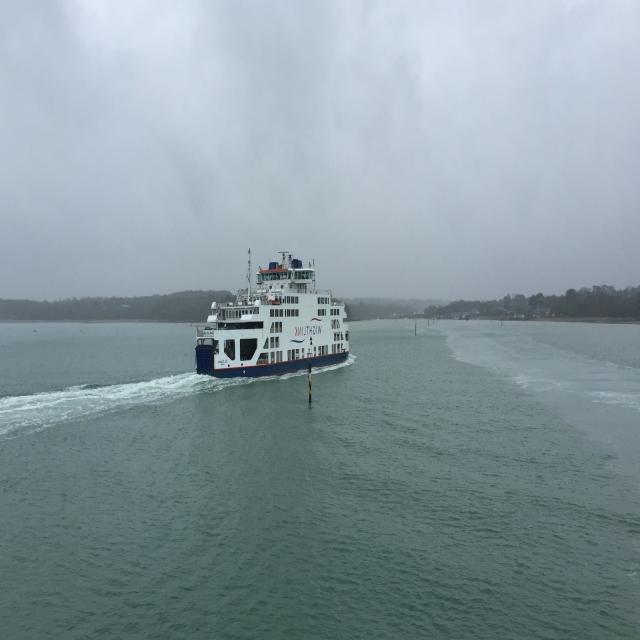houseboat: (185, 247, 355, 398)
